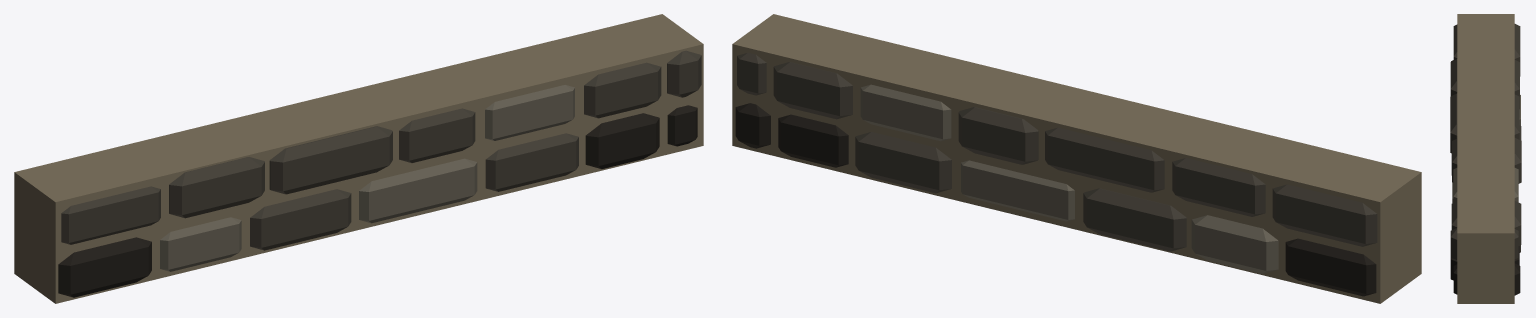
The model's file is SM_Bld_Foundation_Stone_4m.glb.
3 renders of one model, left to right at view 1: azimuth 30°, elevation 25°; view 2: azimuth 150°, elevation 25°; view 3: azimuth 270°, elevation 25°, orthographic. The views are drawn at different scales.
Visible parts, largest first — view 1: SM_Bld_Foundation_Stone_4m; view 2: SM_Bld_Foundation_Stone_4m; view 3: SM_Bld_Foundation_Stone_4m.
Part boxes in pixels (left/top/right/bottom): SM_Bld_Foundation_Stone_4m: left=14, top=14, right=703, bottom=303; SM_Bld_Foundation_Stone_4m: left=732, top=14, right=1421, bottom=303; SM_Bld_Foundation_Stone_4m: left=1450, top=14, right=1521, bottom=303.
Size of the model in its own units: 4 by 0.6 by 0.5517.
Materials: 1 (1 with a texture image).
